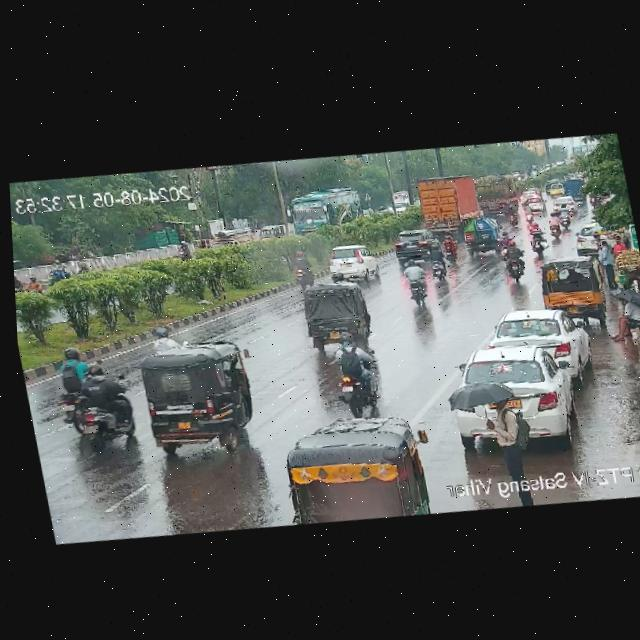bus: (283, 183, 363, 239)
car: (277, 409, 441, 533), (440, 335, 587, 459), (126, 342, 264, 463), (486, 301, 591, 378), (292, 280, 375, 354), (534, 252, 606, 321), (323, 242, 380, 283), (459, 212, 507, 260), (387, 228, 441, 268), (571, 220, 615, 258), (515, 191, 548, 216), (258, 224, 286, 244), (551, 196, 578, 215)
motorcycle: (40, 355, 137, 451), (330, 336, 385, 411), (400, 260, 434, 310), (494, 236, 528, 283), (290, 251, 319, 291), (524, 218, 550, 256), (426, 244, 449, 282), (439, 229, 463, 264), (545, 212, 564, 241), (504, 204, 521, 228), (176, 239, 194, 261)
person: (474, 382, 545, 499), (606, 289, 640, 342), (593, 238, 623, 288)
truck: (401, 171, 484, 234), (476, 173, 520, 219)
